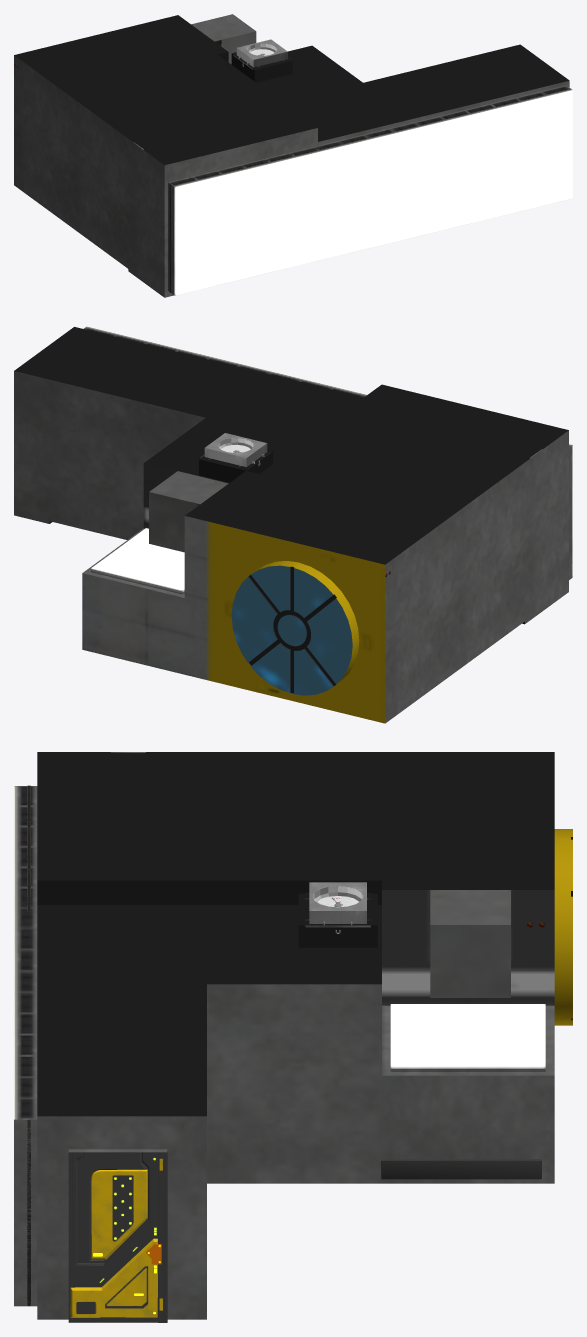
File: CyberPunkRoom.fbx
3 views of the same model, one above another, from view 1: azimuth 30°, elevation 25°; view 2: azimuth 150°, elevation 25°; view 3: azimuth 270°, elevation 25° (orthographic). The views are drawn at different scales.
Parts seen in each view (by area): view 1: Walls&Floors_low, Airlock, DecorativePanels; view 2: Walls&Floors_low, Airlock; view 3: Walls&Floors_low, Door_low, BedFrame, Airlock, DecorativePanels.
Boxes of the visible parts, x1,y1,x2,y2 form: Walls&Floors_low: [14, 14, 572, 297]; Airlock: [233, 39, 291, 69]; DecorativePanels: [169, 146, 323, 292]; Walls&Floors_low: [14, 326, 572, 723]; Airlock: [200, 433, 270, 469]; Walls&Floors_low: [14, 752, 572, 1322]; Door_low: [68, 1151, 167, 1322]; BedFrame: [381, 1159, 541, 1179]; Airlock: [305, 882, 371, 933]; DecorativePanels: [27, 785, 30, 1306].
Size of the model in its own units: 907 by 294 by 624.
27 materials, 26 textured.
